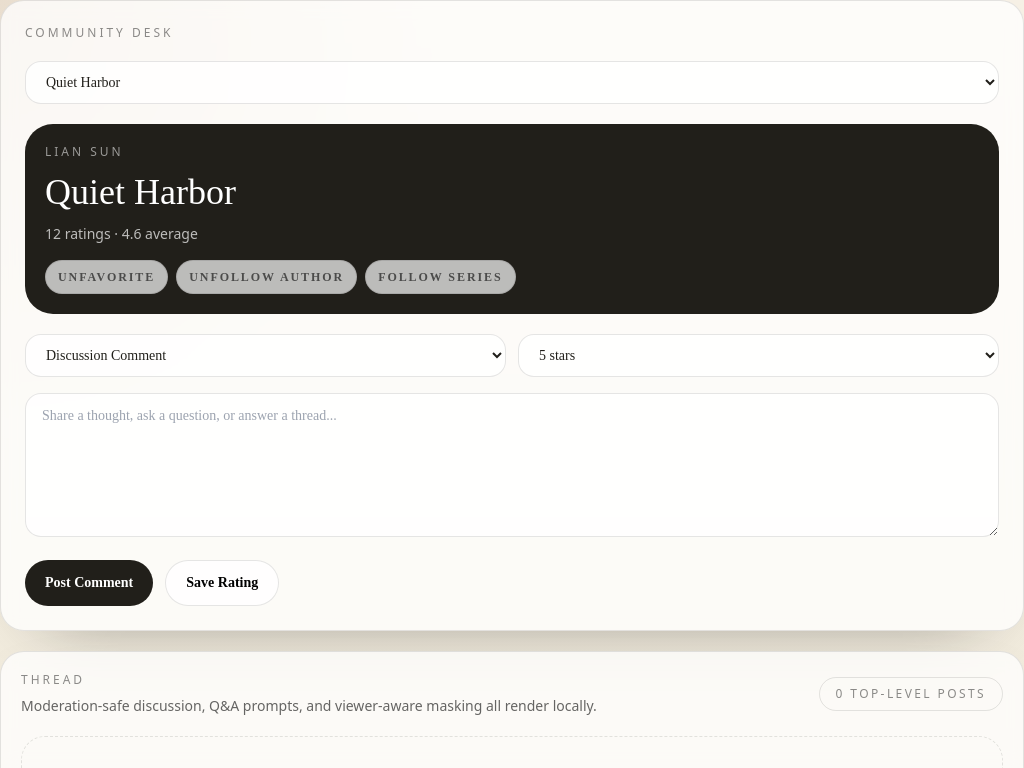
it: CommunityPage › hydrates favorite and follow controls from the backend for each title
The image size is (1024, 768).
Expected: the button "Unfavorite" is shown, [45,260,168,294]
Expected: the button "Unfollow Author" is shown, [176,260,357,294]
Select "Archive At Dawn" in the 1st dropdown showing "Quiet Harbor". click: [512, 82]
box: [25,61,999,104]
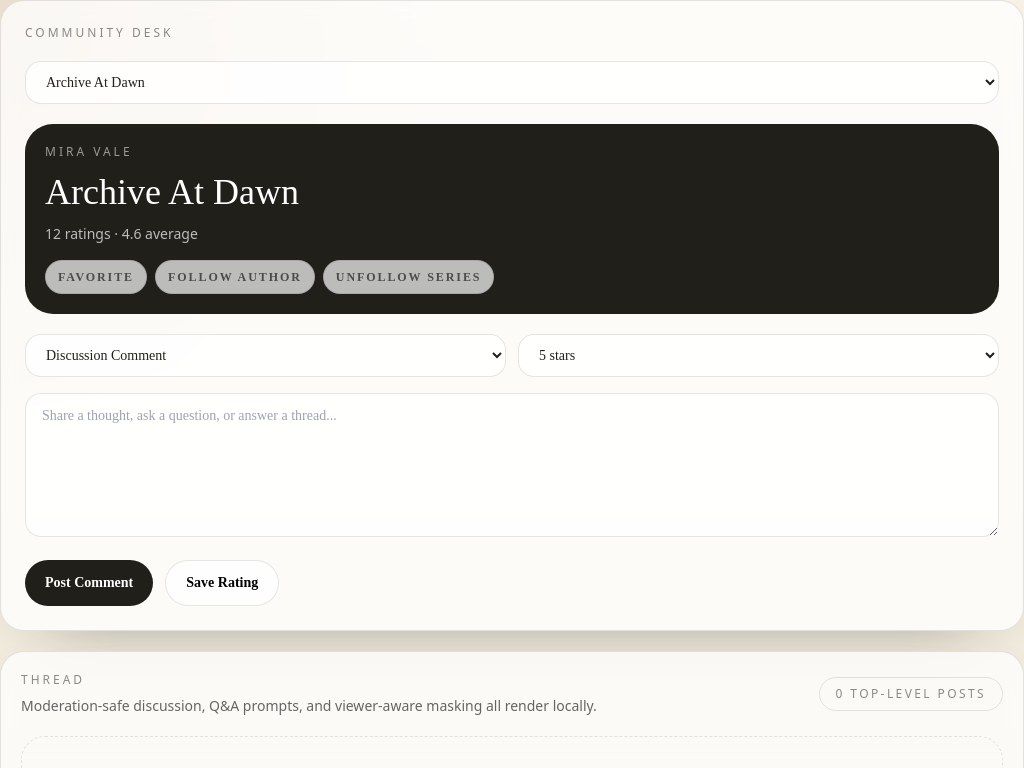
Expected: the button "Favorite" is shown, [45,260,147,294]
Now the button "Unfollow Series" is shown, box [323,260,494,294]
